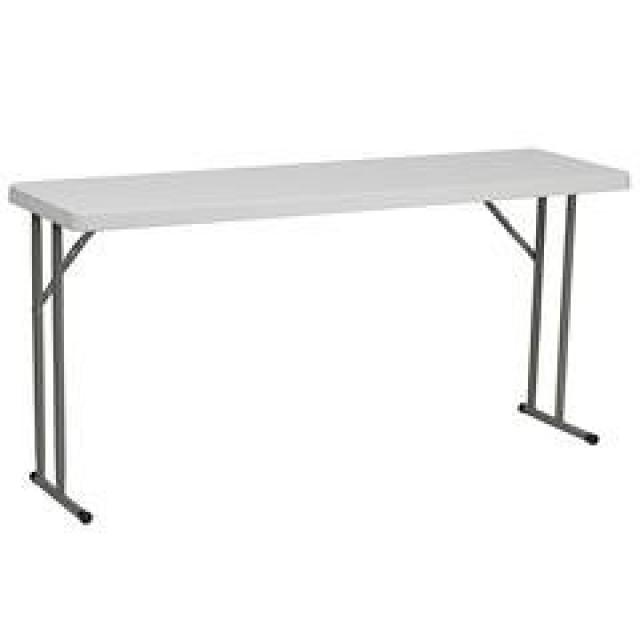Plastic: (8, 147, 635, 237)
